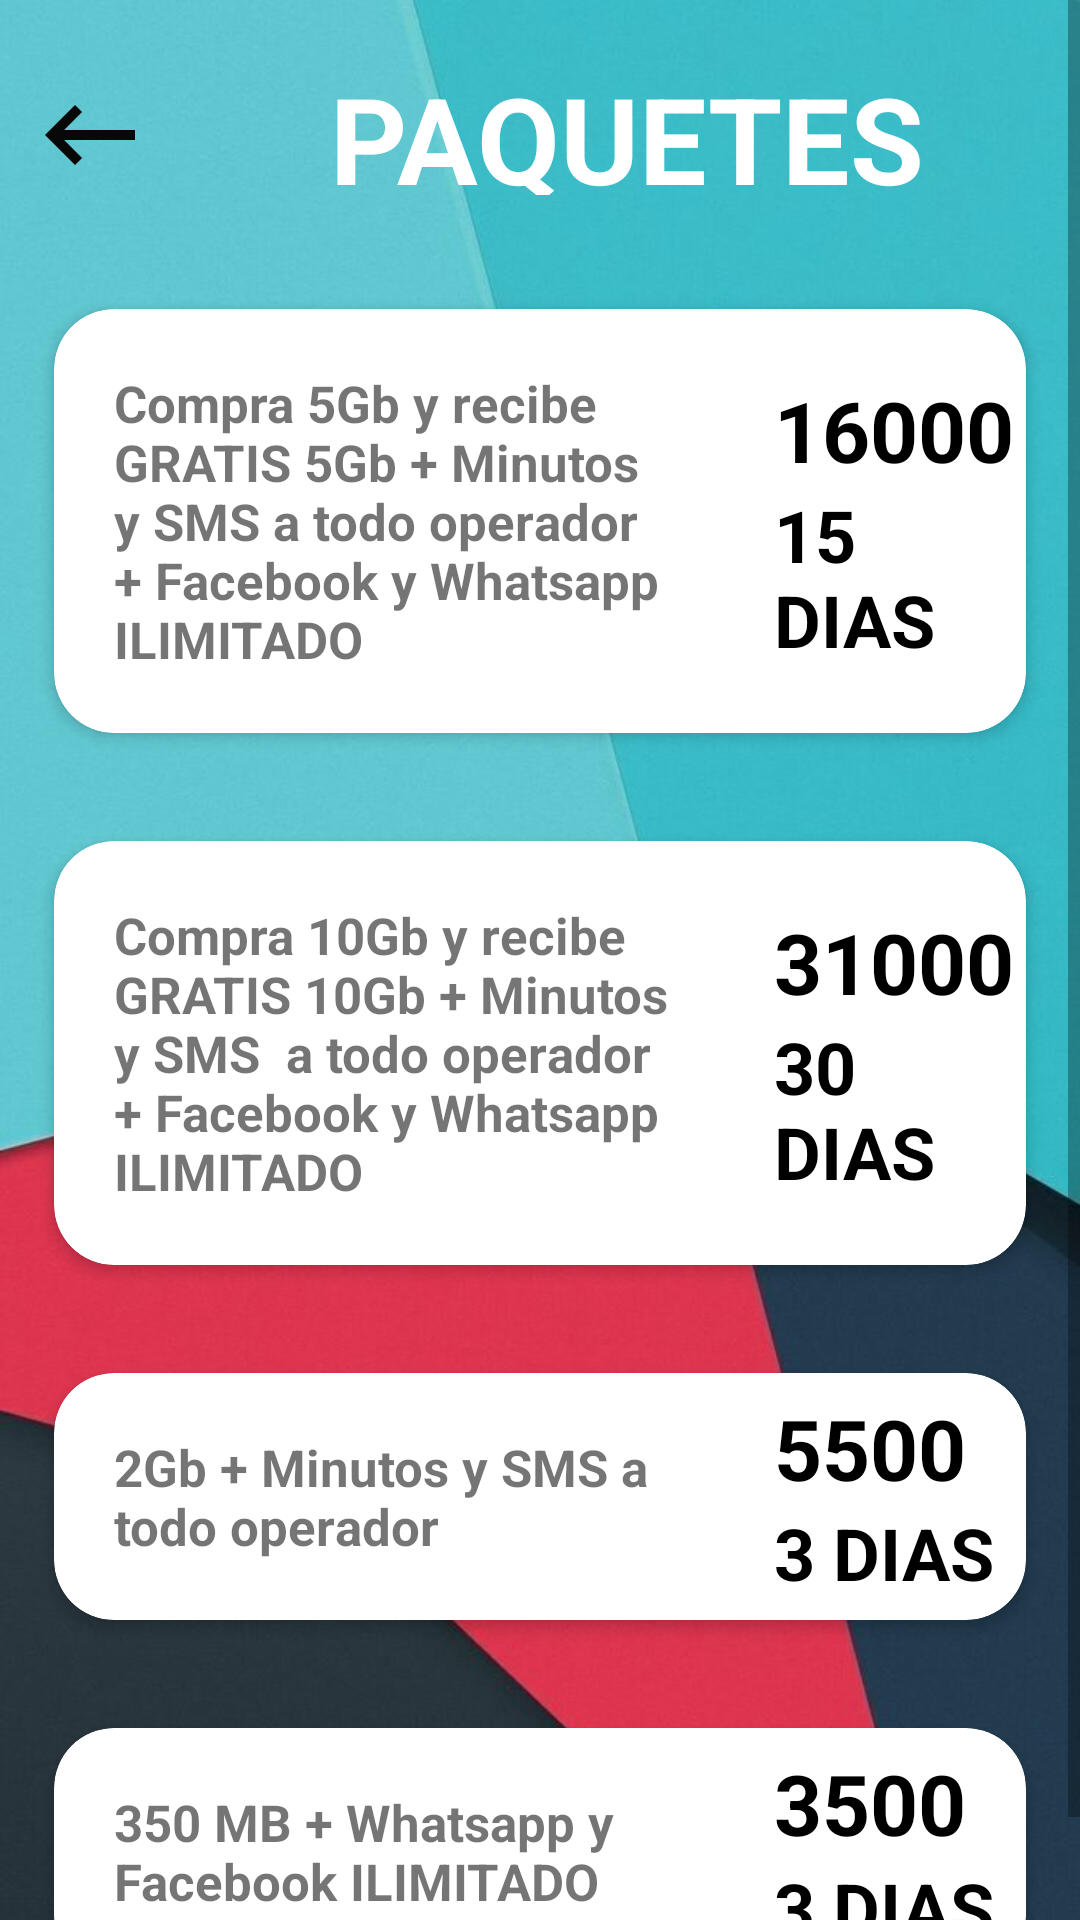

Screen size 1080 × 1920. Icon name, then its center in pixels as point (x, y):
retroceder: point (90, 135)
